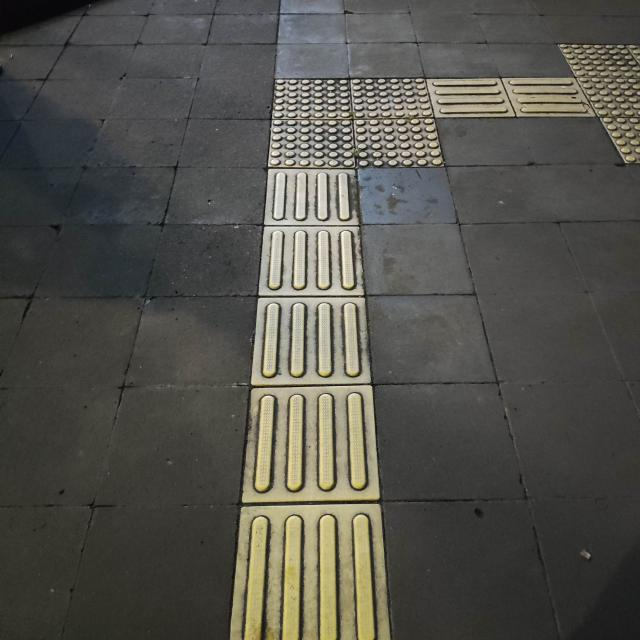kanan: (230, 37, 576, 223)
